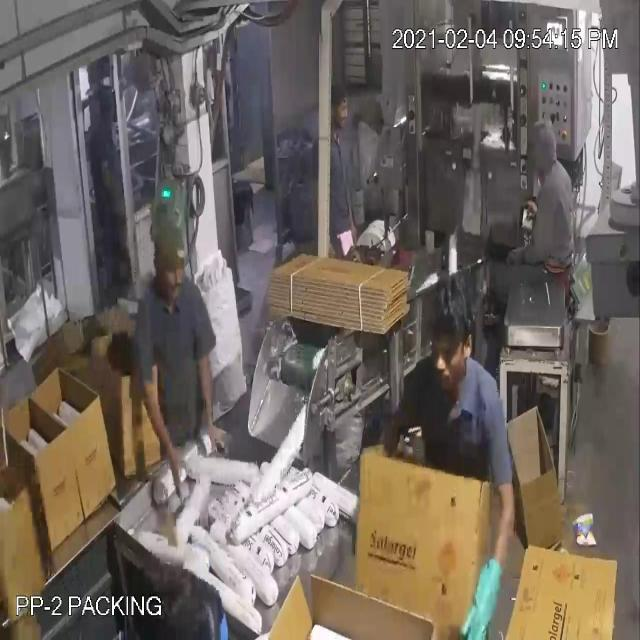gloves: (458, 540, 514, 640)
no-gloves: (139, 359, 189, 501), (190, 330, 230, 472)
